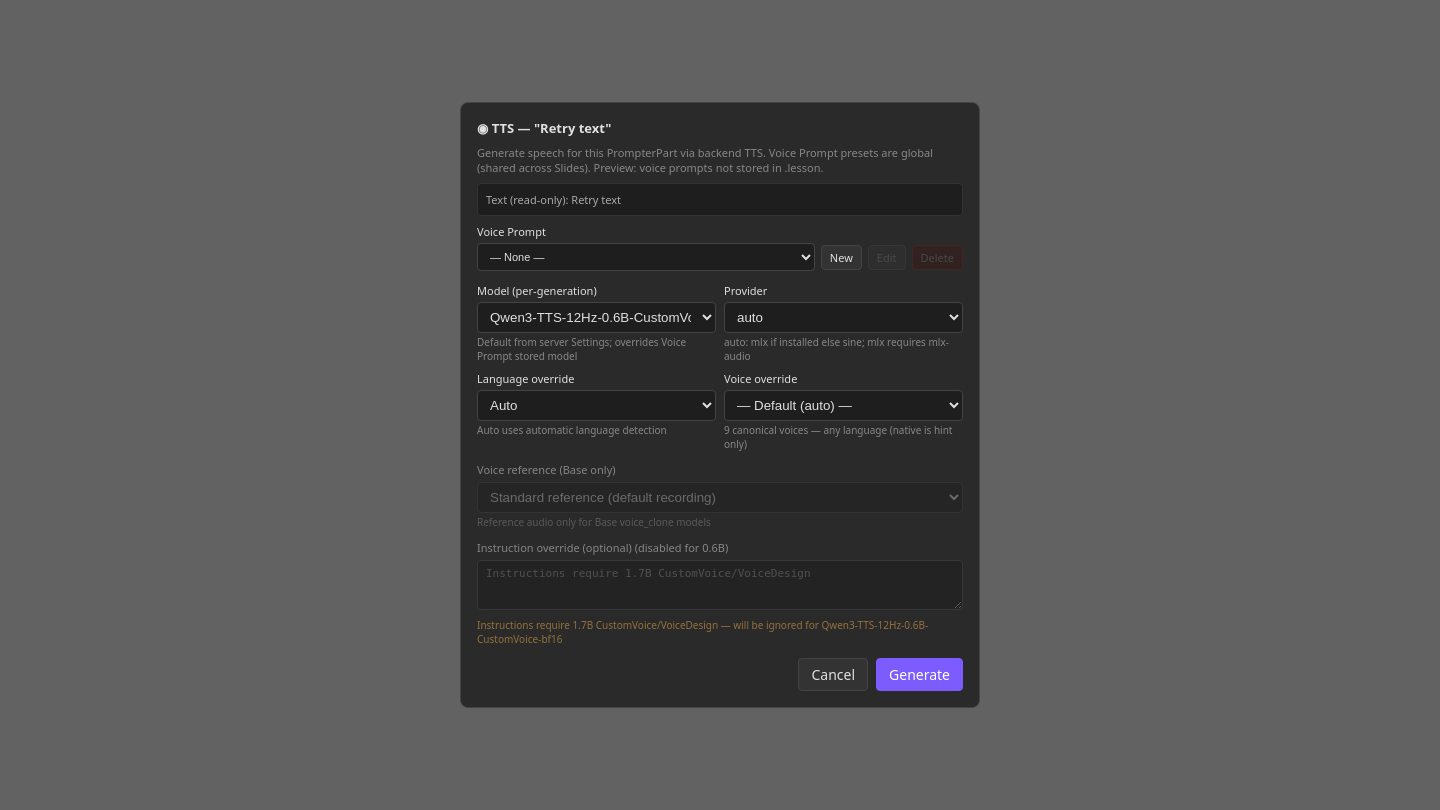
Test case: TtsModal seam + mocked voice prompts & TTS › generation errors with retry surfacing
This screenshot has width=1440, height=810.
Expected: the dropdown with test id "tts-prompt-picker" is shown, [477,243,815,271]
What coordinates should you click on to do the following:
click the button with test id "tts-generate"
I would click on:
 (920, 674)
Its box is [876,658,963,691].
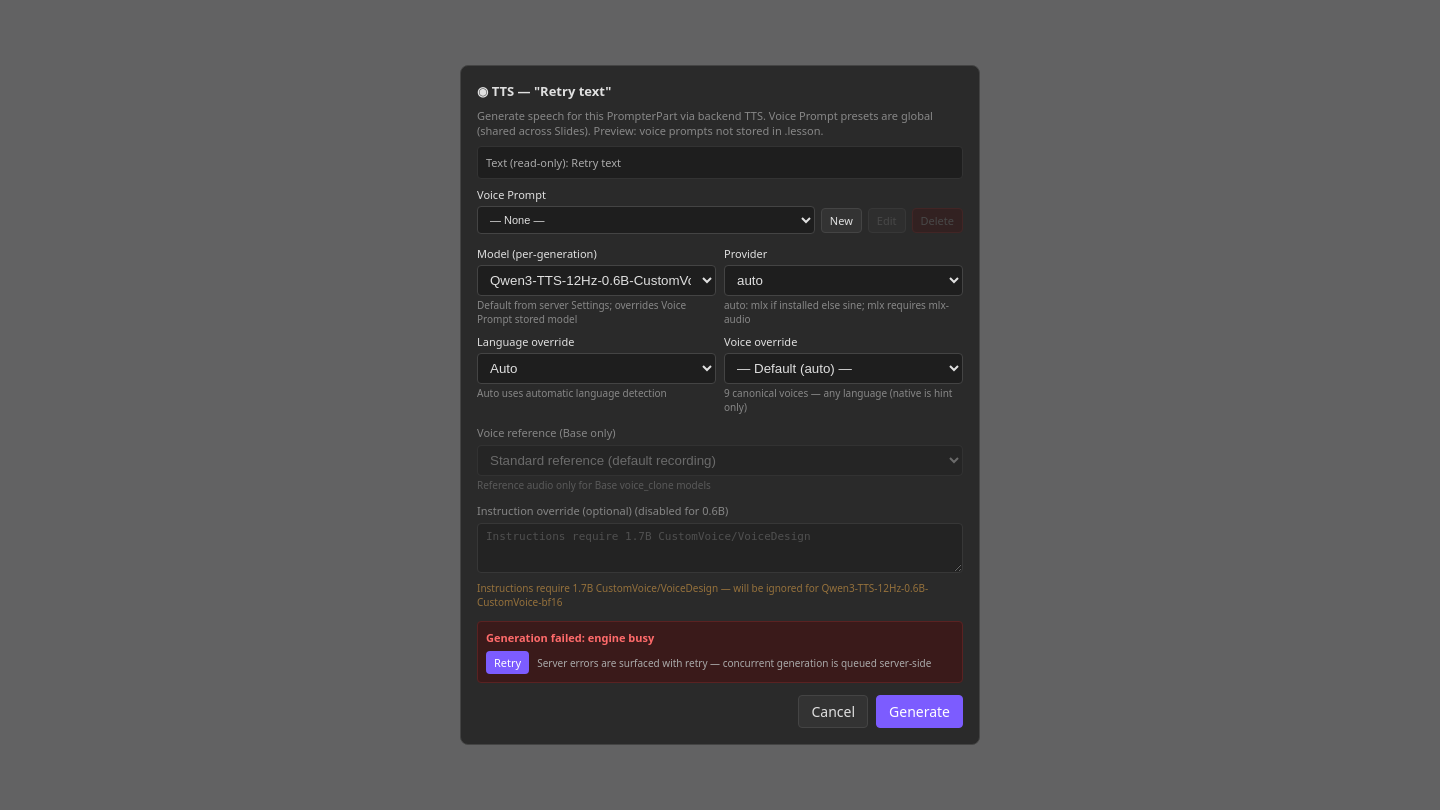
Expected: the element with test id "tts-error" is shown, [477,621,963,683]
Expected: the button with test id "tts-retry" is shown
What coordinates should you click on to do the following:
click the button with test id "tts-retry"
I would click on:
 (508, 662)
Its box is [486,651,529,674].
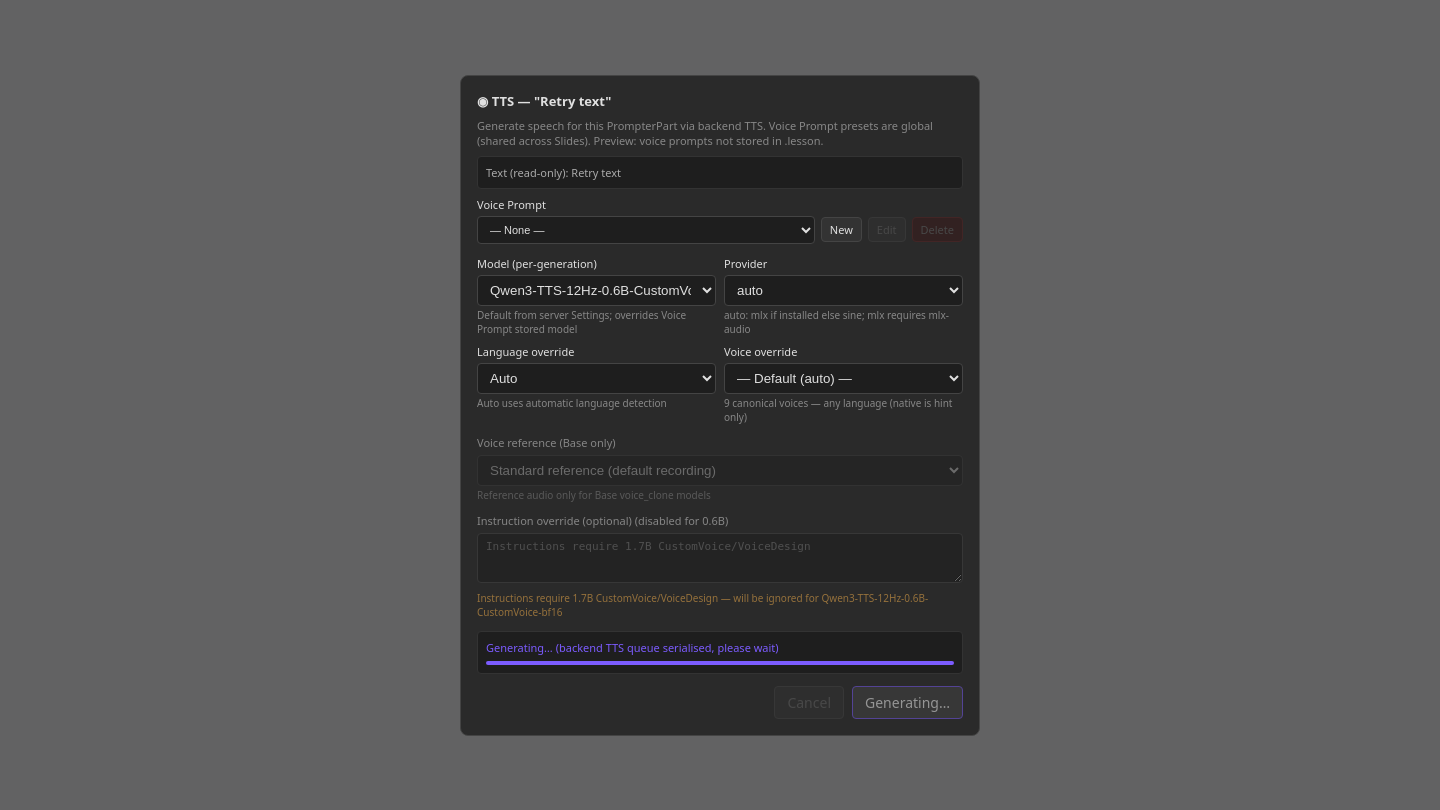
Expected: the element with test id "tts-progress" is shown, [477,630,963,674]
